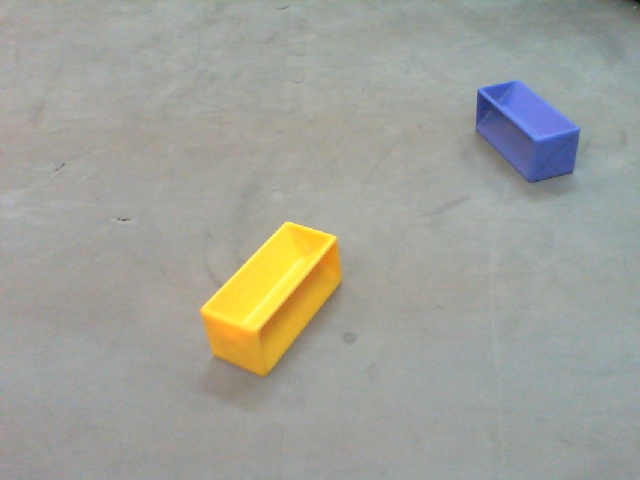BlueSample: (474, 80, 582, 186)
YellowSample: (194, 220, 344, 380)
